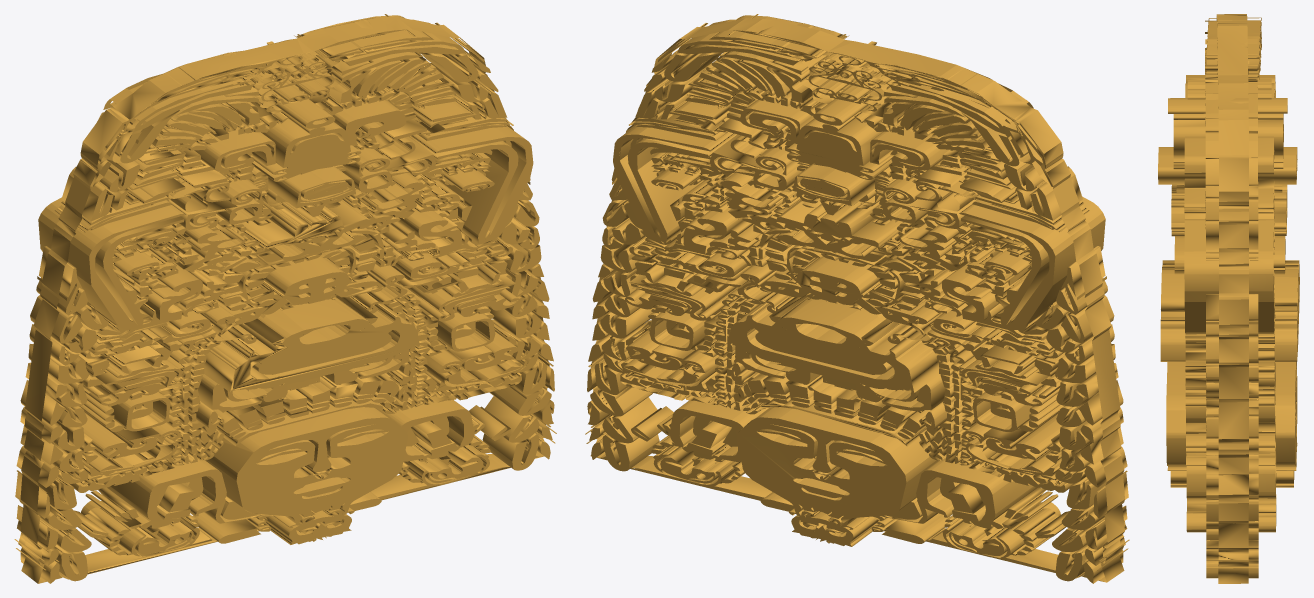
The model's file is goldpart.1.glb.
3 renders of one model, left to right at view 1: azimuth 30°, elevation 25°; view 2: azimuth 150°, elevation 25°; view 3: azimuth 270°, elevation 25°, orthographic. The views are drawn at different scales.
Visible parts, largest first — view 1: Selection.8019; view 2: Selection.8019; view 3: Selection.8019.
Boxes of the visible parts, <box> form: Selection.8019: <box>14,14,556,583</box>; Selection.8019: <box>585,14,1129,583</box>; Selection.8019: <box>1158,14,1299,583</box>.
Bounding box in the file's own units: 0.6912 × 0.603 × 0.1868.
